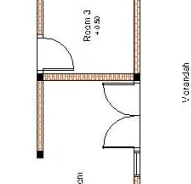door: (30, 35, 79, 73)
double door: (98, 81, 146, 150)
